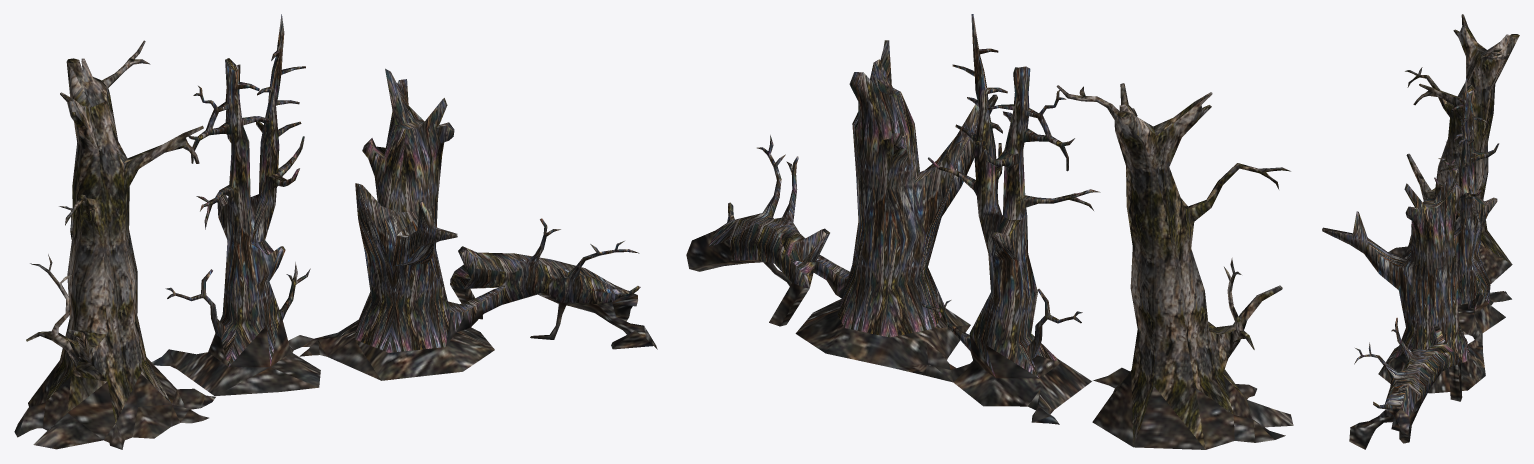
File: dead_forest.glb
The picture shows the model from 3 angles, left to right: view 1: azimuth 30°, elevation 25°; view 2: azimuth 150°, elevation 25°; view 3: azimuth 270°, elevation 25°; orthographic projection. The views are drawn at different scales.
Visible parts, largest first — view 1: dead_forest; view 2: dead_forest; view 3: dead_forest.
Boxes of the visible parts, x1,y1,x2,y2 form: dead_forest: (14,14,657,449); dead_forest: (686,14,1293,449); dead_forest: (1322,14,1519,449).
Bounding box in the file's own units: 0.4673 × 0.2686 × 0.1841.
3 materials, 3 textured.
